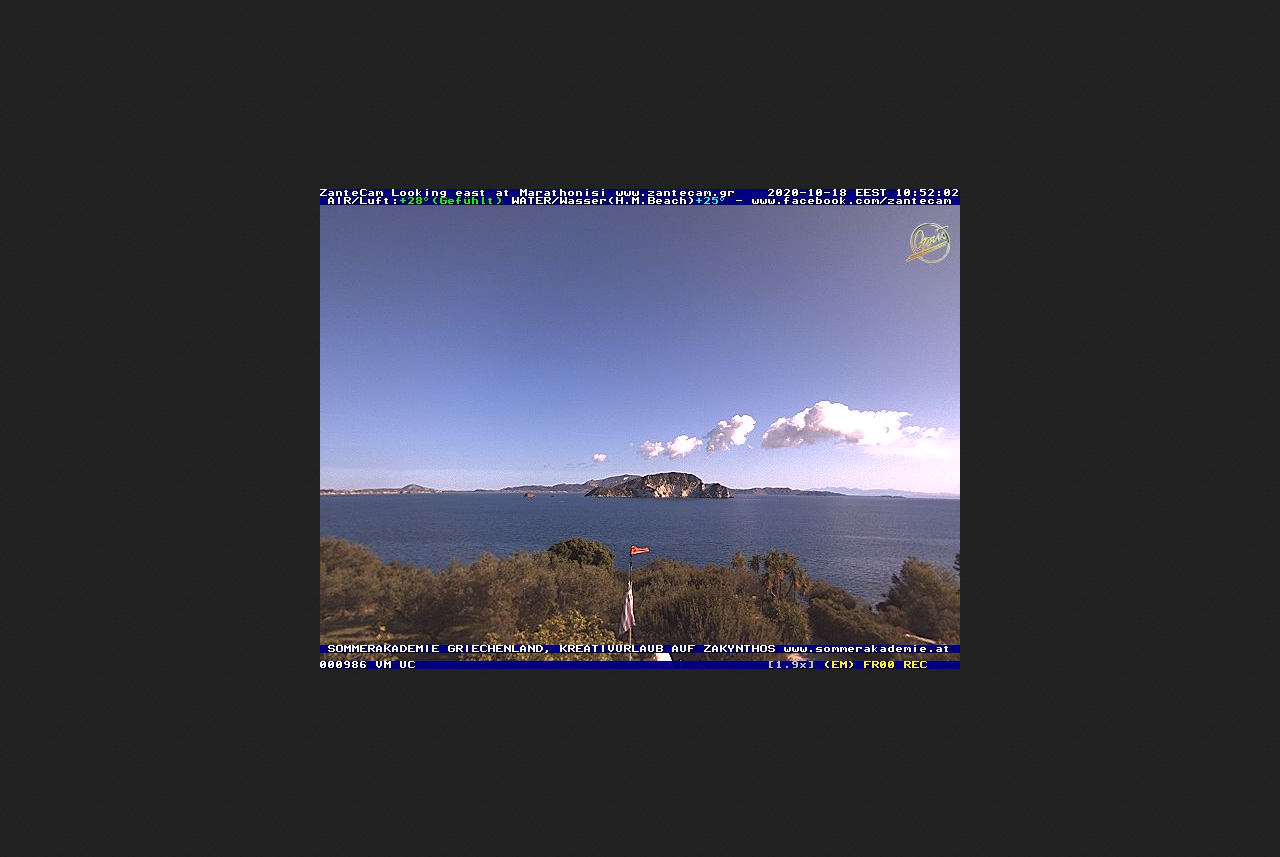yes: (627, 541, 652, 558)
